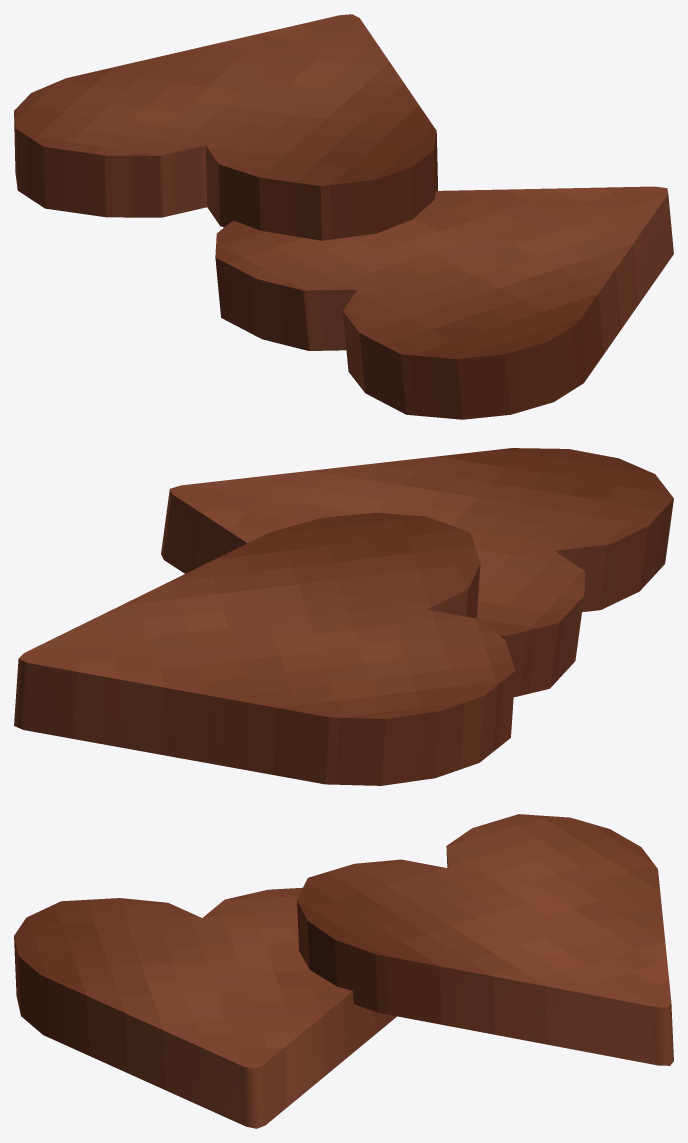
Rendered from HeartChocolate.fbx.
3 renders of one model, top to bottom at view 1: azimuth 30°, elevation 25°; view 2: azimuth 150°, elevation 25°; view 3: azimuth 270°, elevation 25°, orthographic. The views are drawn at different scales.
Parts seen in each view (by area): view 1: ChocolateHeartbox; view 2: ChocolateHeartbox; view 3: ChocolateHeartbox.
Part boxes in pixels (box(x1,y1,x2,y2)): ChocolateHeartbox: box(14, 14, 673, 419); ChocolateHeartbox: box(14, 448, 673, 785); ChocolateHeartbox: box(14, 814, 673, 1128).
Bounding box in the file's own units: 16.22 × 3.87 × 21.28.
